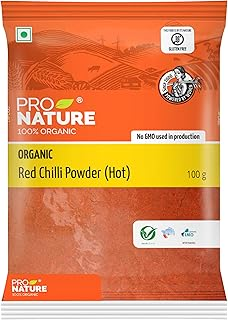Chilli Powder: (3, 3, 228, 316)
